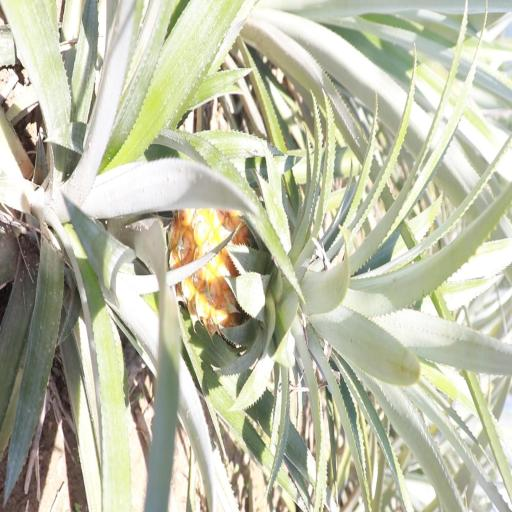Pineapple - v8 v1: (170, 191, 419, 367)
